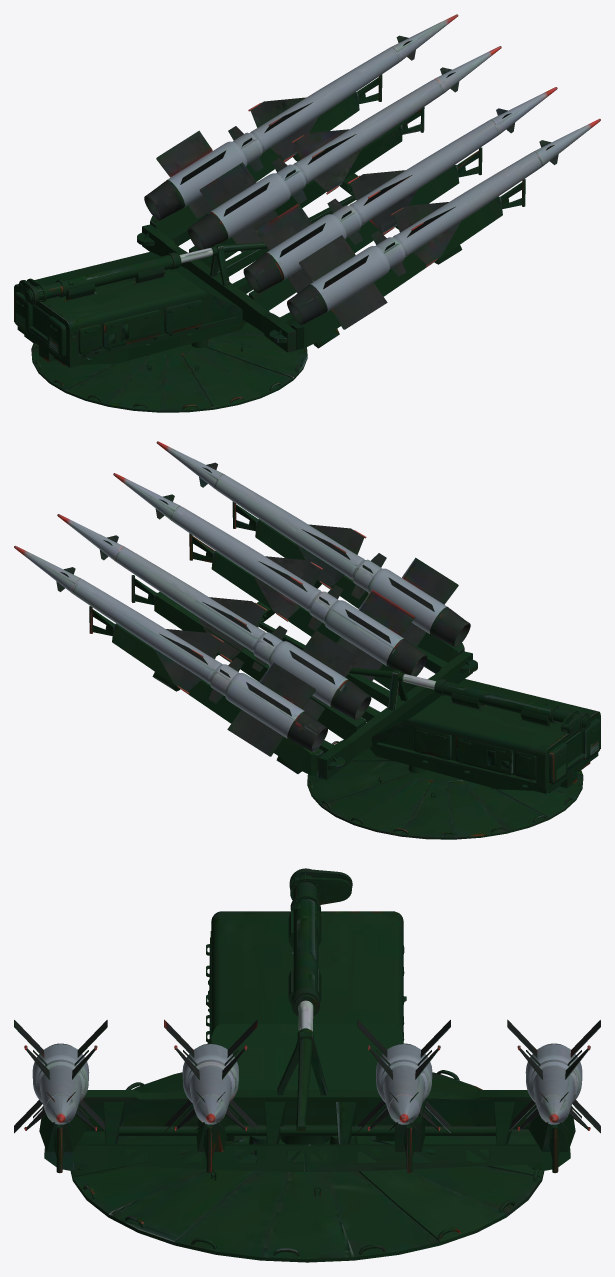
3 renders of one model, top to bottom at view 1: azimuth 30°, elevation 25°; view 2: azimuth 150°, elevation 25°; view 3: azimuth 270°, elevation 25°, orthographic. The views are drawn at different scales.
Visible parts, largest first — view 1: Cylinder_Material_0; view 2: Cylinder_Material_0; view 3: Cylinder_Material_0.
Part boxes in pixels (<box>): Cylinder_Material_0: <box>14,14,600,412</box>; Cylinder_Material_0: <box>14,441,600,839</box>; Cylinder_Material_0: <box>14,868,600,1262</box>.
Size of the model in its own units: 7.35 by 2.8 by 4.3.
1 material, 1 textured.
